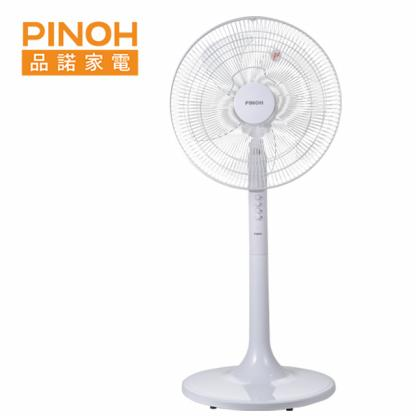fan: (165, 13, 349, 414)
